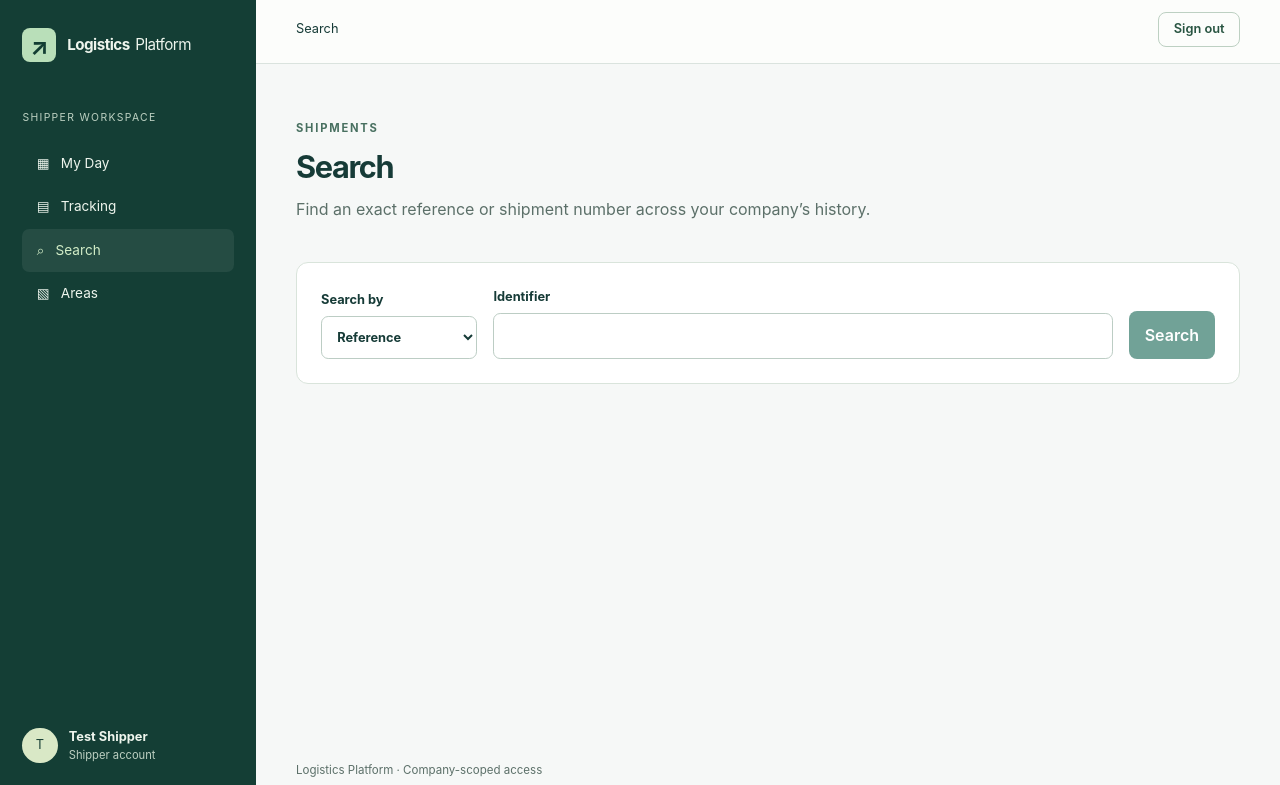
Test: uses only the selected Search namespace and the clicked stable ID among duplicate numbers
Select "Shipment number" in the dropdown labelled "Search by": (399, 338) [321, 316, 477, 359]
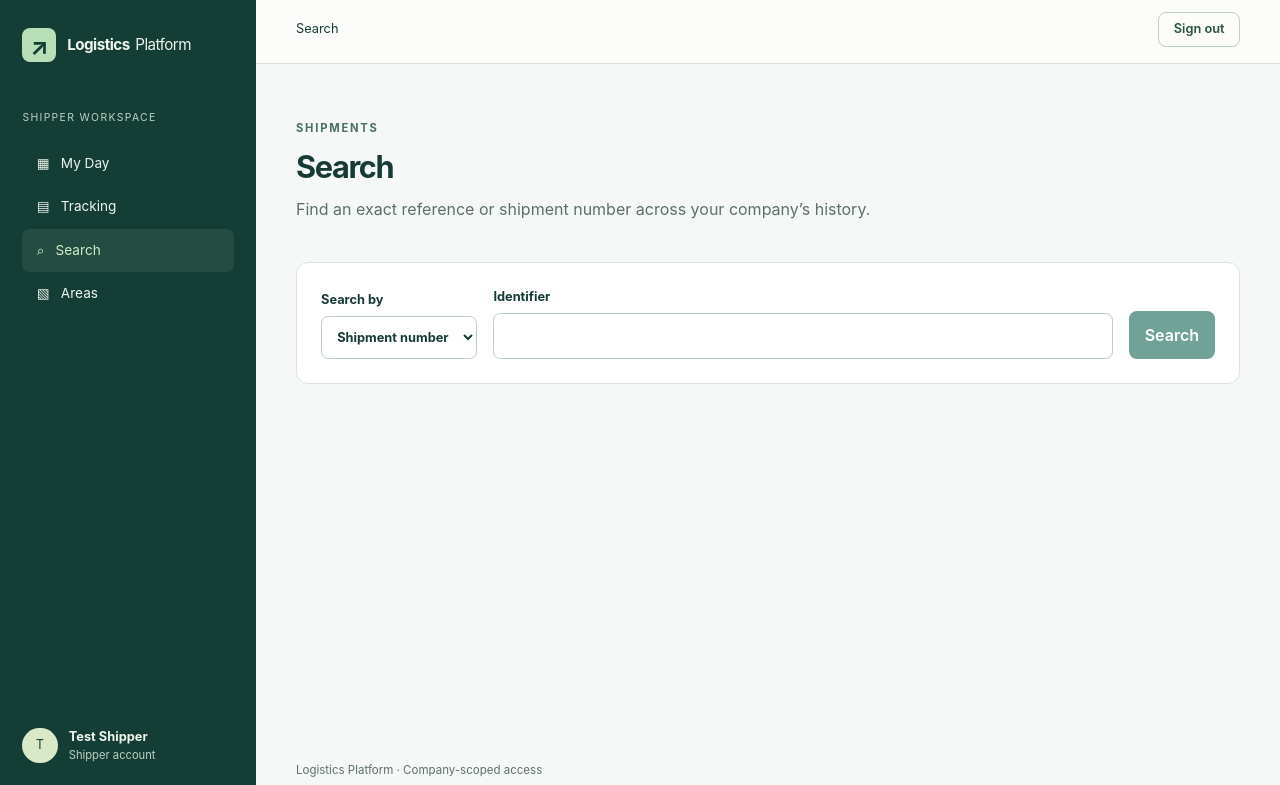
In the field labelled "Identifier": (803, 336) [493, 313, 1113, 359], type " 000DUP "
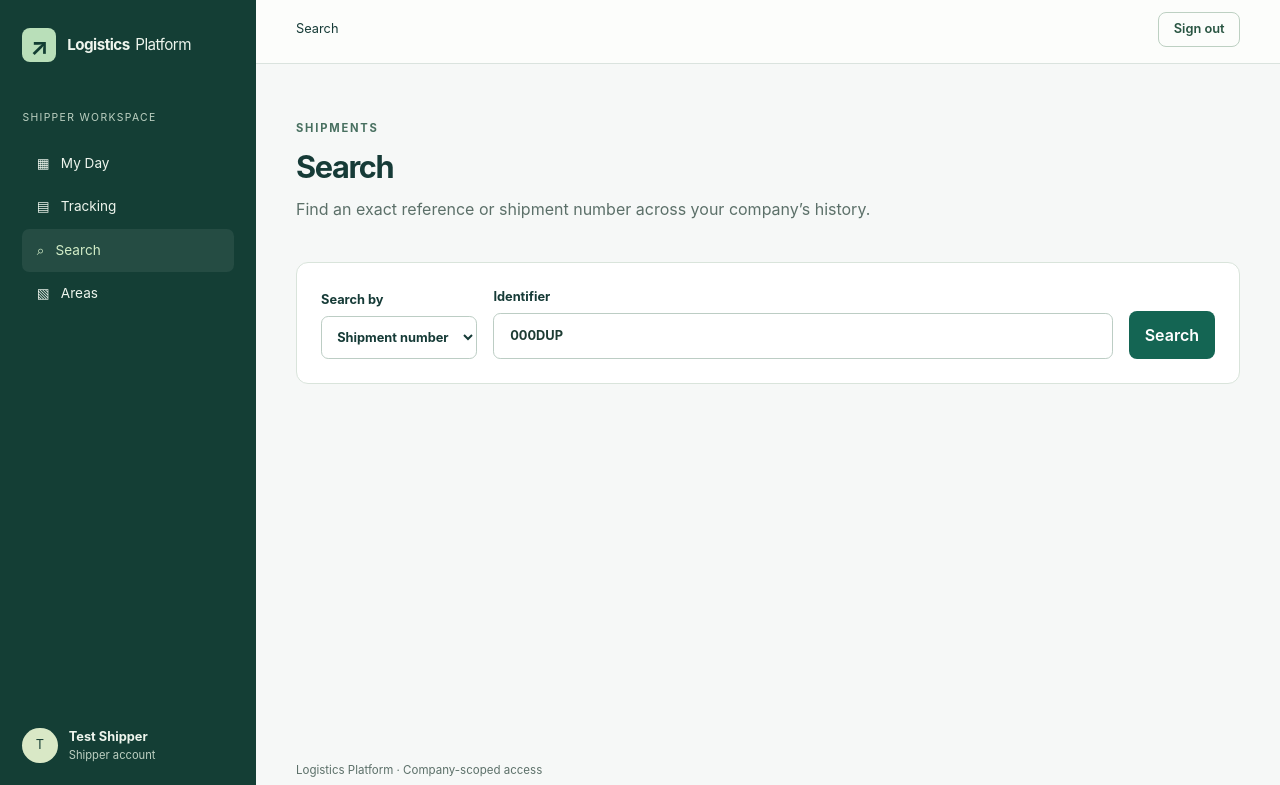
Click the button "Search": (1172, 335) [1129, 311, 1215, 359]
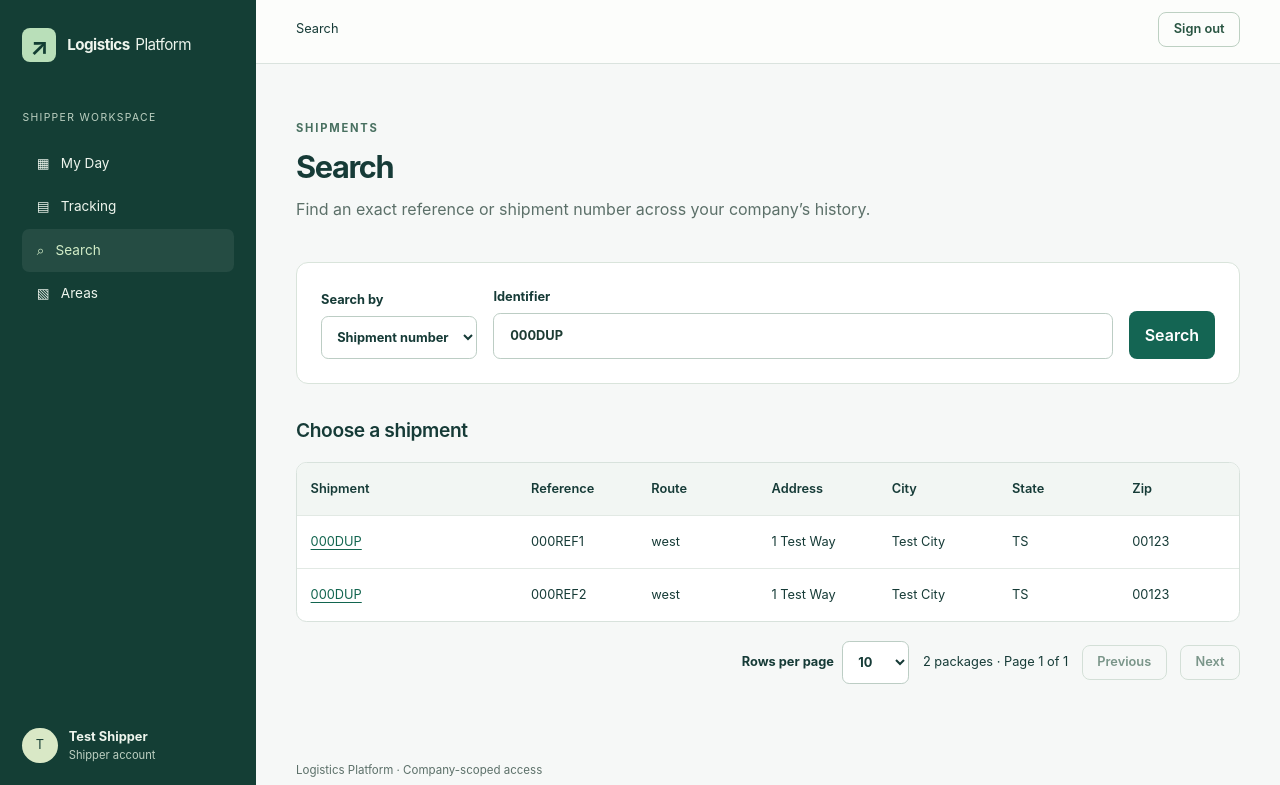
Expected: the heading "Choose a shipment" is shown, [296, 418, 468, 442]
Expected: the link "000DUP" in the row of "000REF1" is shown, [311, 534, 362, 549]
Click the link "000DUP" in the row of "000REF2": (336, 594) [311, 587, 362, 602]
(page scrolled)
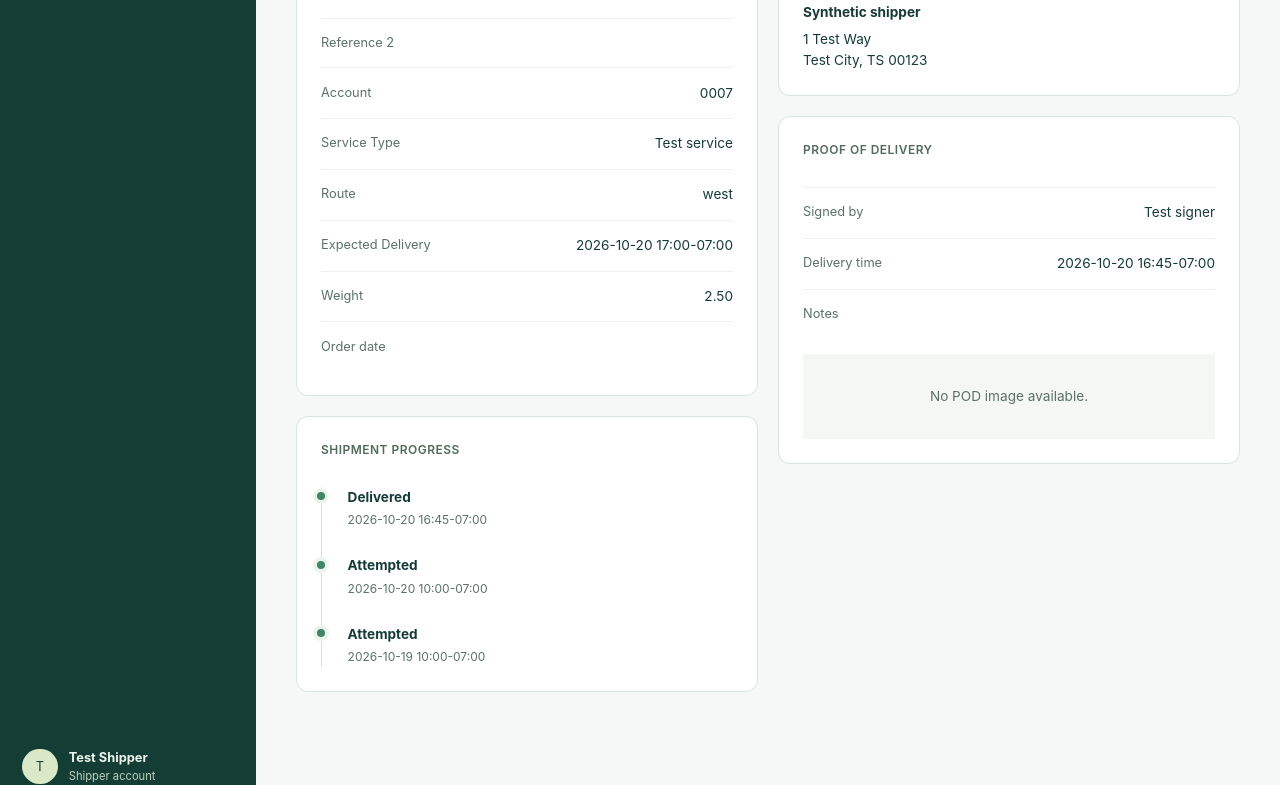
Expected: the text "No POD image available." is shown, [803, 354, 1215, 439]
Expected: the text "attempted" is shown 2 times, [348, 557, 418, 573]; [348, 626, 418, 642]
